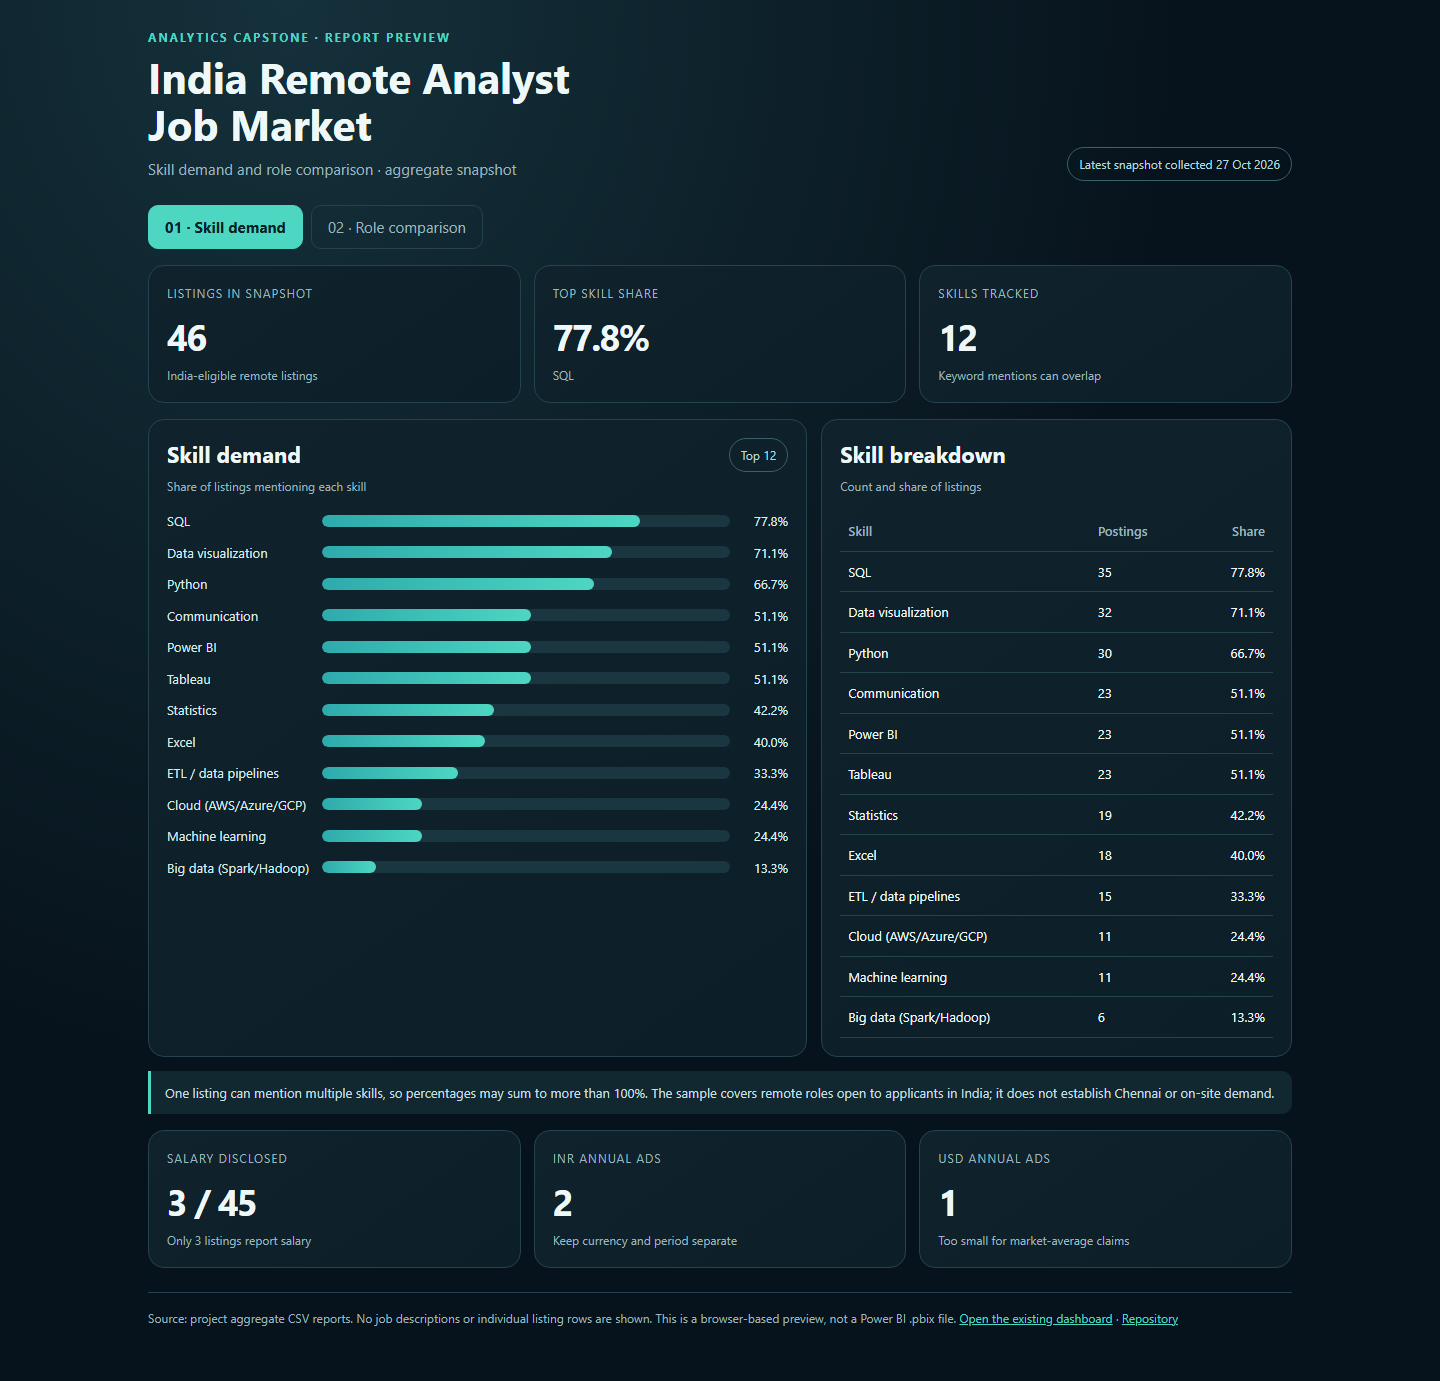

This screenshot's page, from the dashboard's own definition file:
{"tool":"powerbi","page":{"name":"Skill demand","canvas":[1920,1080],"ordinal":0},"visuals":[{"type":"barChart","title":"Skill demand | Share of listings mentioning each skill","fields":{"Category":["SkillDemand.skill"],"Y":["Sum(SkillDemand.pct_postings)"]},"box":[0,0,1261.8,927.4],"z":0},{"type":"textbox","box":[10,930,1763,150],"z":1},{"type":"tableEx","fields":{"Values":["SkillDemand.skill","SkillDemand.postings","Sum(SkillDemand.pct_postings)"]},"box":[1261.8,192.9,658.6,734.5],"z":2},{"type":"cardVisual","fields":{"Data":["RoleSkill.Listings in snapshot","RoleSkill.Top skill share (%)","RoleSkill.Skills tracked"]},"box":[1261.8,0,658.6,192.9],"z":3}]}

Visuals, with their boxes on the page's 1920x1080 design canvas (x1, y1, x2, y2). These are canvas units, not pixel positions in the 1440x1381 screenshot, which may show the page scaled, cropped or inside an application window:
"Skill demand | Share of listings mentioning each skill" barChart: bbox=(0, 0, 1262, 927)
textbox: bbox=(10, 930, 1773, 1080)
tableEx - SkillDemand.skill x SkillDemand.postings: bbox=(1262, 193, 1920, 927)
cardVisual - RoleSkill.Listings in snapshot x RoleSkill.Top skill share (%): bbox=(1262, 0, 1920, 193)
